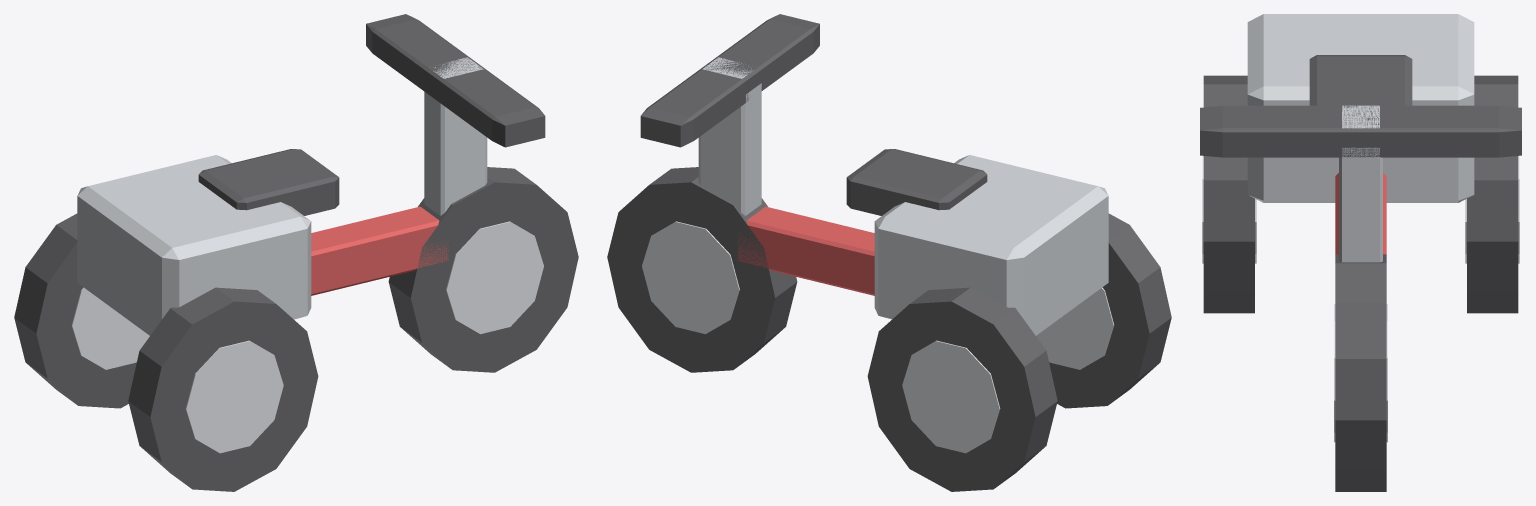
Rendered from b03_rear_basket_adult_tricycle.glb.
The picture shows the model from 3 angles, left to right: view 1: azimuth 30°, elevation 25°; view 2: azimuth 150°, elevation 25°; view 3: azimuth 270°, elevation 25°; orthographic projection. The views are drawn at different scales.
Parts seen in each view (by area): view 1: b03_rear_basket_adult_tricycle; view 2: b03_rear_basket_adult_tricycle; view 3: b03_rear_basket_adult_tricycle.
Part boxes in pixels (x1=…): b03_rear_basket_adult_tricycle: x1=14, y1=14, x2=578, y2=491; b03_rear_basket_adult_tricycle: x1=607, y1=14, x2=1171, y2=491; b03_rear_basket_adult_tricycle: x1=1200, y1=14, x2=1521, y2=491.
Size of the model in its own units: 1.87 by 1.12 by 0.93.
